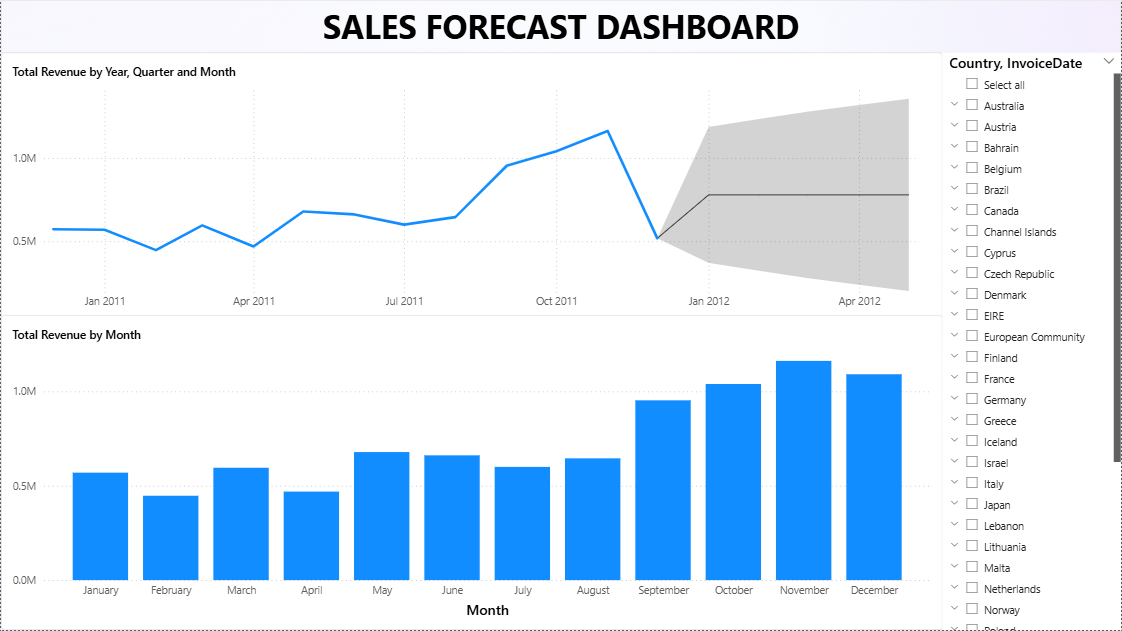

Layout of this report page (visuals, bound fields, positions):
{"tool":"powerbi","page":{"name":"Forecast Dashboard","canvas":[1280,720],"ordinal":2},"visuals":[{"type":"textbox","box":[0,0,1280,60],"z":0},{"type":"lineChart","fields":{"Y":["Online Retail.Total Revenue"],"Category":["Online Retail.InvoiceDate.Variation.Date Hierarchy.Year","Online Retail.InvoiceDate.Variation.Date Hierarchy.Quarter","Online Retail.InvoiceDate.Variation.Date Hierarchy.Month","Online Retail.InvoiceDate.Variation.Date Hierarchy.Day"]},"box":[0,60,1075.7,330],"z":1000},{"type":"columnChart","fields":{"Category":["Online Retail.InvoiceDate.Variation.Date Hierarchy.Month"],"Y":["Online Retail.Total Revenue"]},"box":[0,360,1075.7,360],"z":2000},{"type":"slicer","fields":{"Values":["Online Retail.Country","Online Retail.InvoiceDate"]},"box":[1075.7,60,204.3,660],"z":3000}]}

Visuals, with their boxes on the page's 1280x720 design canvas (x1, y1, x2, y2). These are canvas units, not pixel positions in the 1122x631 screenshot, which may show the page scaled, cropped or inside an application window:
textbox: bbox(0, 0, 1280, 60)
lineChart - Online Retail.Total Revenue x Online Retail.InvoiceDate.Variation.Date Hierarchy.Year: bbox(0, 60, 1076, 390)
columnChart - Online Retail.InvoiceDate.Variation.Date Hierarchy.Month x Online Retail.Total Revenue: bbox(0, 360, 1076, 720)
slicer - Online Retail.Country x Online Retail.InvoiceDate: bbox(1076, 60, 1280, 720)
